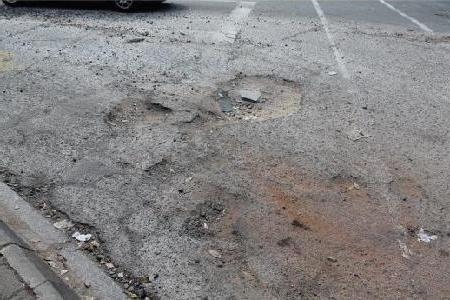pothole: (0, 186, 158, 299), (206, 71, 306, 124), (102, 95, 173, 136), (180, 200, 246, 242)
